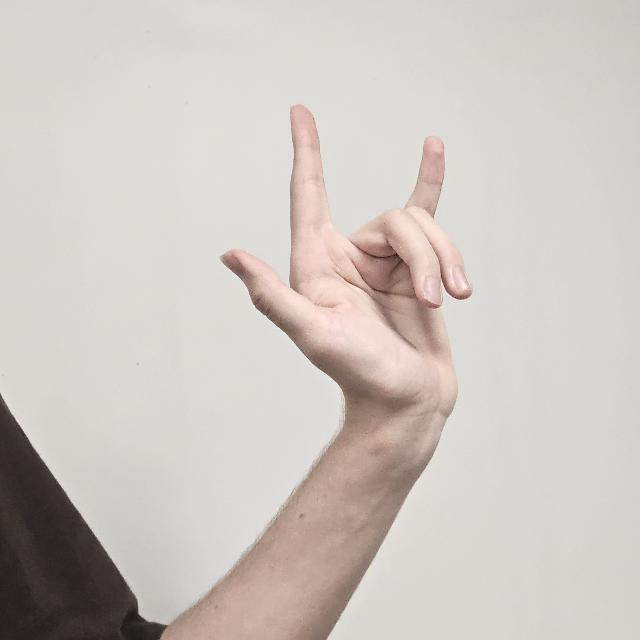Cima: (222, 104, 472, 432)
